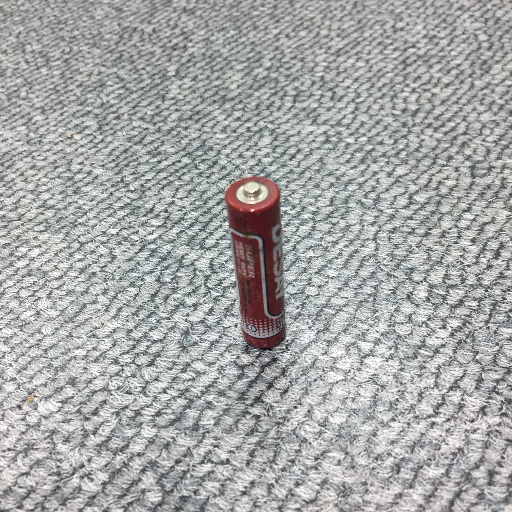Battery_0: (216, 166, 302, 361)
